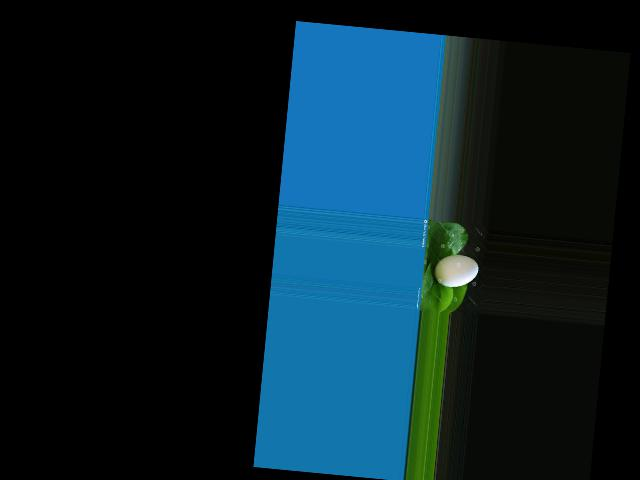egg: (432, 252, 479, 289)
